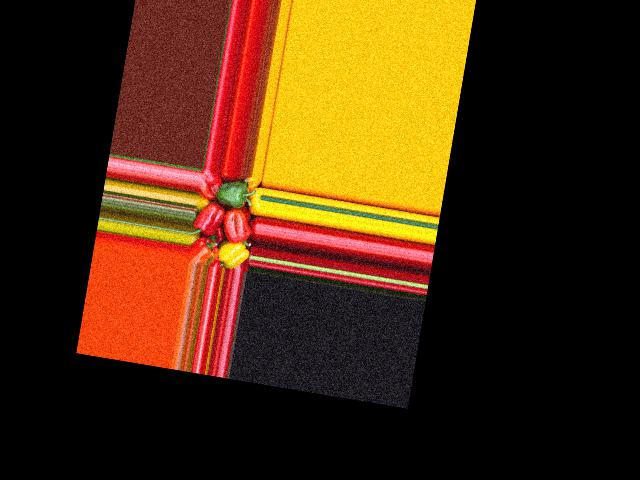bell_pepper: (214, 237, 252, 271)
